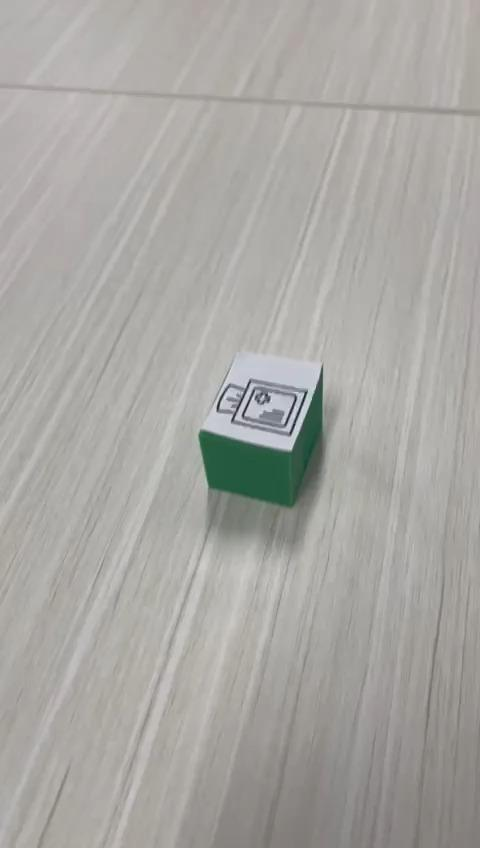Gauze: (197, 349, 324, 507)
